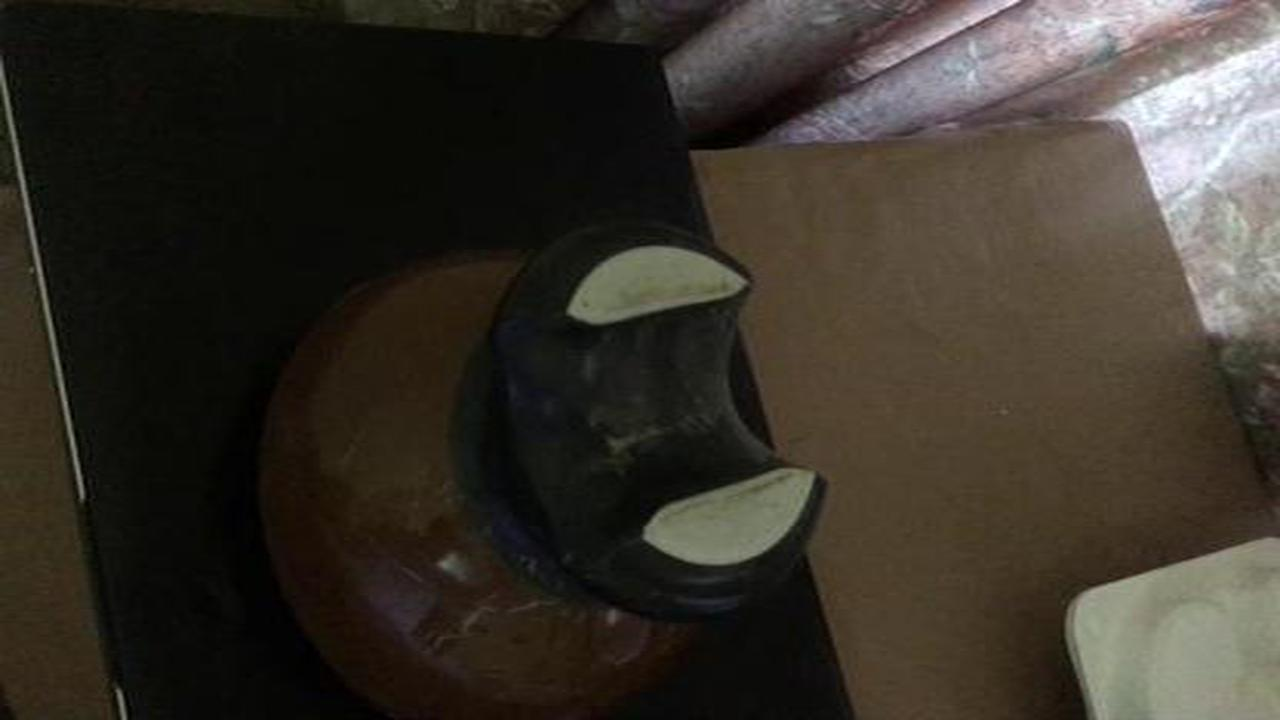insulator_pin: (231, 198, 853, 720)
